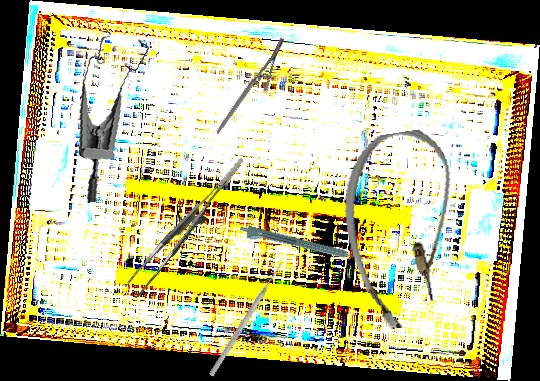Cannula: (333, 125, 474, 334)
Handpiece: (238, 223, 364, 269)
Needle Holder: (193, 35, 307, 135)
Pusher: (207, 260, 286, 378)
Speculum: (61, 24, 171, 204)
Tissue Forceps: (112, 157, 265, 299)
